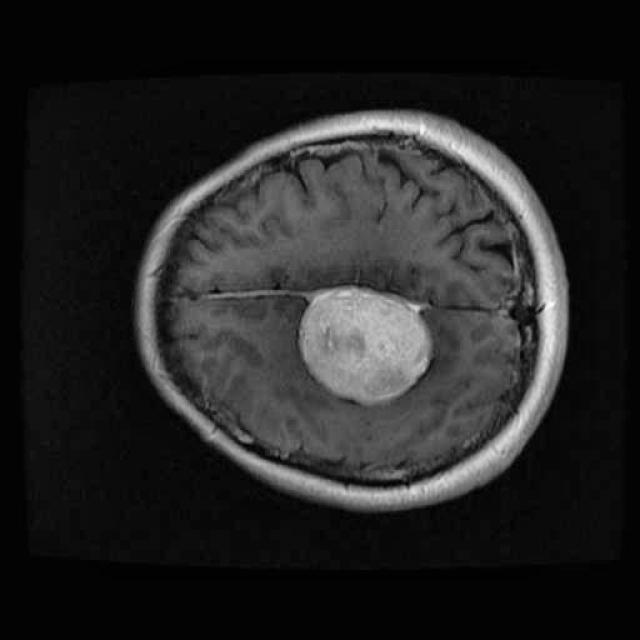Tumor: (289, 278, 439, 416)
